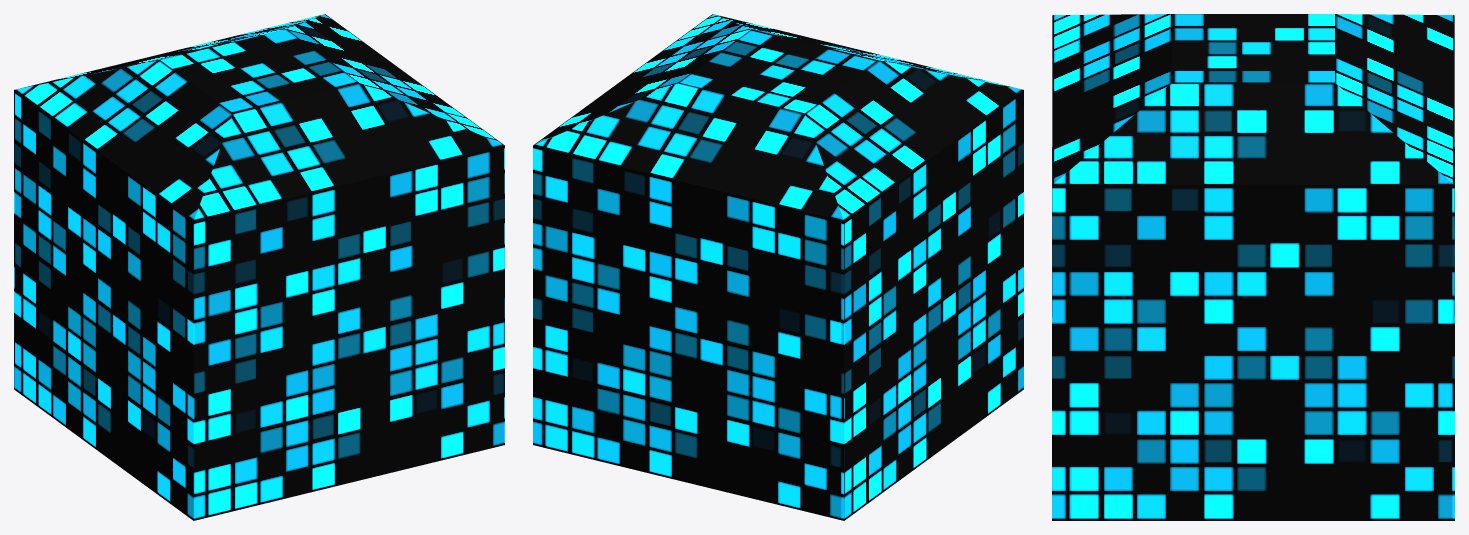
File: DropBox2.glb
The picture shows the model from 3 angles, left to right: view 1: azimuth 30°, elevation 25°; view 2: azimuth 150°, elevation 25°; view 3: azimuth 270°, elevation 25°; orthographic projection. The views are drawn at different scales.
Visible parts, largest first — view 1: Drop box; view 2: Drop box; view 3: Drop box.
Part boxes in pixels (bbox=[...]): Drop box: bbox=[14, 14, 504, 520]; Drop box: bbox=[533, 14, 1023, 520]; Drop box: bbox=[1052, 14, 1454, 520].
Bounding box in the file's own units: 1 × 1.06 × 1.
Materials: 1 (1 with a texture image).
